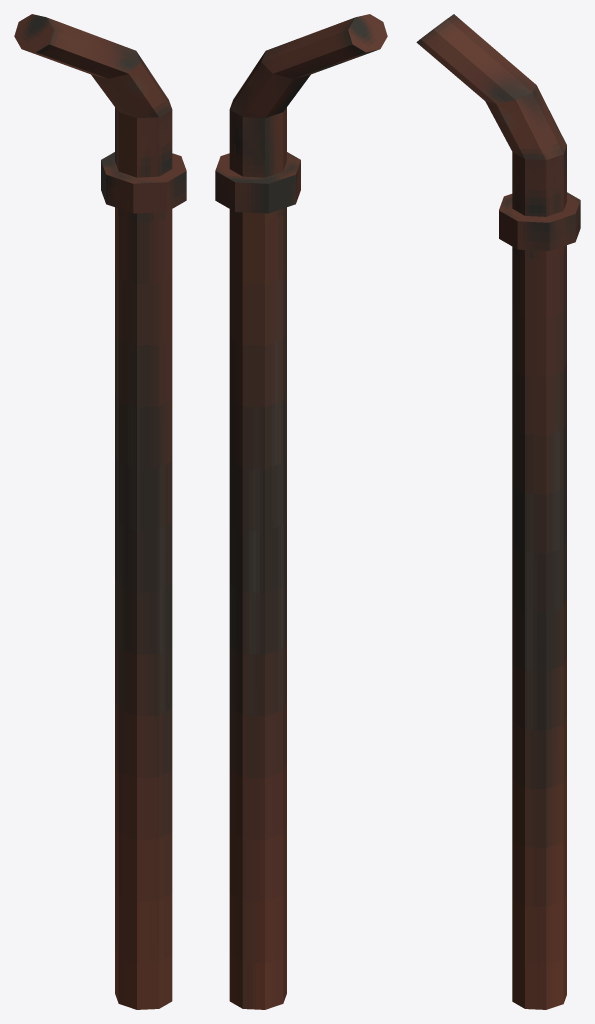
The model's file is SteelPipe.glb.
3 renders of one model, left to right at view 1: azimuth 30°, elevation 25°; view 2: azimuth 150°, elevation 25°; view 3: azimuth 330°, elevation 25°, orthographic. The views are drawn at different scales.
Visible parts, largest first — view 1: Steel Pipe; view 2: Steel Pipe; view 3: Steel Pipe.
Part boxes in pixels (x1,y1,x2,y2): Steel Pipe: (14,14,186,1009); Steel Pipe: (215,14,387,1009); Steel Pipe: (416,14,580,1009).
Bounding box in the file's own units: 0.1524 × 0.9144 × 0.0762.
1 material, 1 textured.
